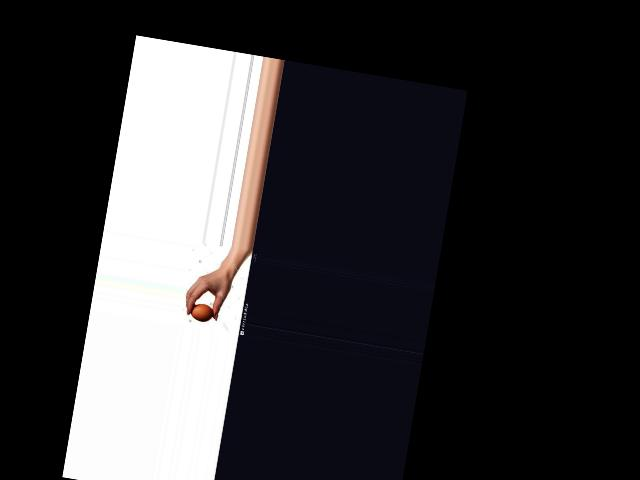egg: (190, 301, 214, 322)
